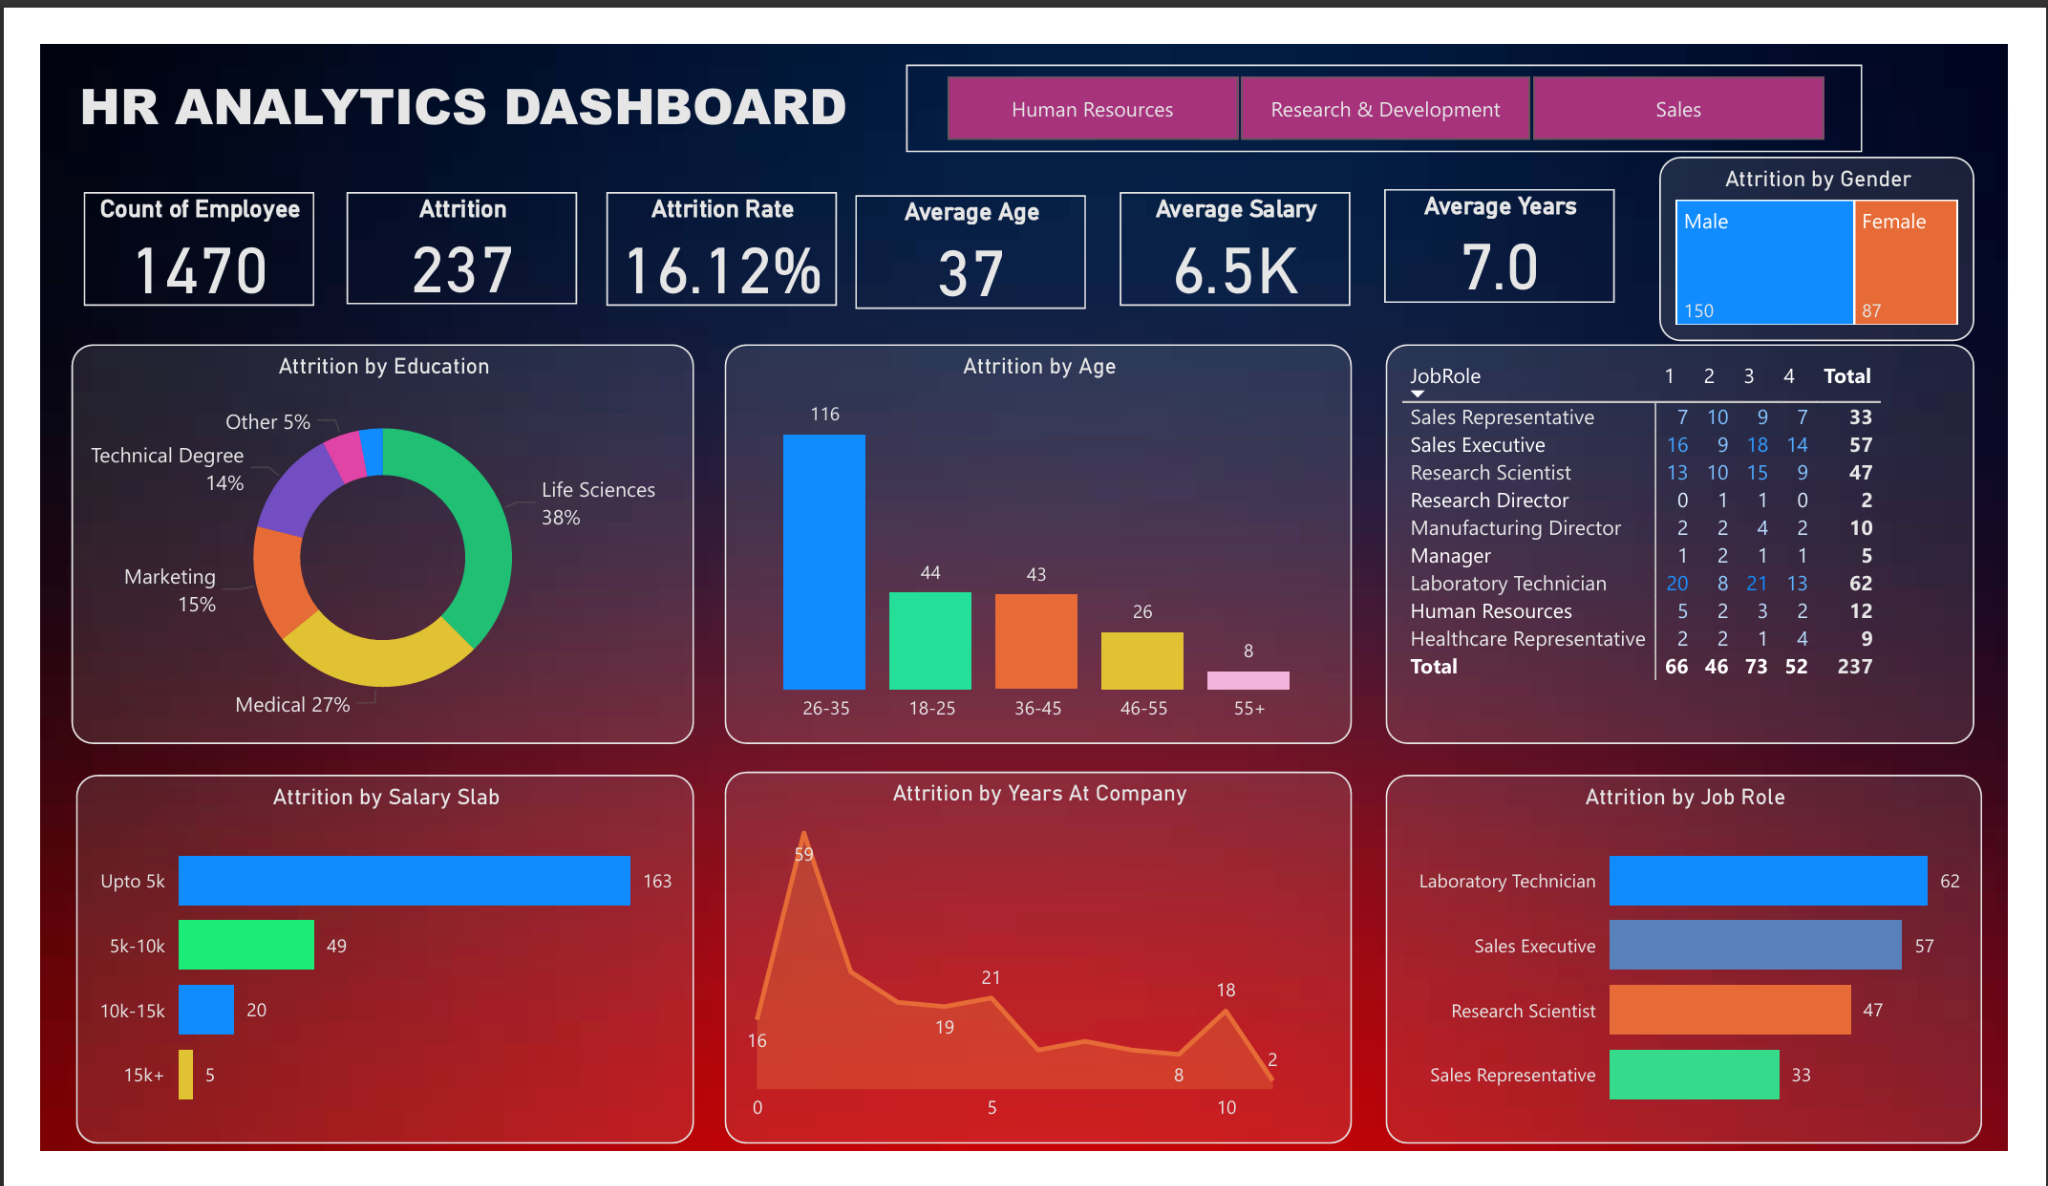

This screenshot's page, from the dashboard's own definition file:
{"tool":"powerbi","page":{"name":"Page 1","canvas":[1280,720],"ordinal":0},"visuals":[{"type":"card","title":"Count of Employee","fields":{"Values":["CountNonNull(HR_Analytics.EmpID)"]},"box":[28,96,150,74],"z":0},{"type":"card","title":"Attrition","fields":{"Values":["Sum(HR_Analytics.AttritionCount)"]},"box":[194,98,150,74],"z":1000},{"type":"card","title":"Attrition Rate","fields":{"Values":["HR_Analytics.AttritionRate"]},"box":[368,96,150,74],"z":2000},{"type":"card","title":"Average Age","fields":{"Values":["Avg(HR_Analytics.Age)"]},"box":[530,98,150,74],"z":3000},{"type":"card","title":"Average Years","fields":{"Values":["Avg(HR_Analytics.YearsAtCompany)"]},"box":[874,94,150,74],"z":4000},{"type":"card","title":"Average Salary","fields":{"Values":["Avg(HR_Analytics.MonthlyIncome)"]},"box":[702,96,150,74],"z":5000},{"type":"donutChart","title":"Attrition by Education","fields":{"Category":["HR_Analytics.EducationField"],"Y":["Sum(HR_Analytics.AttritionCount)"]},"box":[20,195,385,260],"z":6000},{"type":"columnChart","title":"Attrition by Age","fields":{"Category":["HR_Analytics.AgeGroup"],"Y":["Sum(HR_Analytics.AttritionCount)"]},"box":[430,195,390,260],"z":7000},{"type":"pivotTable","fields":{"Rows":["HR_Analytics.JobRole"],"Columns":["HR_Analytics.JobSatisfaction"],"Values":["Sum(HR_Analytics.AttritionCount)"]},"box":[852.5,195,367.5,260],"z":8000},{"type":"barChart","title":"Attrition by Salary Slab","fields":{"Category":["HR_Analytics.SalarySlab"],"Y":["Sum(HR_Analytics.AttritionCount)"]},"box":[22.5,475,382.5,240],"z":9000},{"type":"barChart","title":"Attrition by Job Role","fields":{"Category":["HR_Analytics.JobRole"],"Y":["Sum(HR_Analytics.AttritionCount)"]},"box":[852.5,477.5,367.5,240],"z":10000},{"type":"areaChart","title":"Attrition by Years At Company","fields":{"Category":["HR_Analytics.YearsAtCompany"],"Y":["Sum(HR_Analytics.AttritionCount)"]},"box":[430,475,390,242.5],"z":11000},{"type":"treemap","title":"Attrition by Gender","fields":{"Group":["HR_Analytics.Gender"],"Values":["Sum(HR_Analytics.AttritionCount)"]},"box":[1052.5,75,205,120],"z":12000},{"type":"slicer","fields":{"Values":["HR_Analytics.Department"]},"box":[562.5,12.5,622.5,57.5],"z":12001},{"type":"textbox","box":[20,12,530,58],"z":12002}]}

Visuals, with their boxes in screenshot pixels (x1, y1, x2, y2), scaled from the page's 1280x720 canvas onto the 2048x1186 screenshot:
"Count of Employee" card: [45, 158, 285, 280]
"Attrition" card: [310, 161, 550, 283]
"Attrition Rate" card: [589, 158, 829, 280]
"Average Age" card: [848, 161, 1088, 283]
"Average Years" card: [1398, 155, 1638, 277]
"Average Salary" card: [1123, 158, 1363, 280]
"Attrition by Education" donutChart: [32, 321, 648, 749]
"Attrition by Age" columnChart: [688, 321, 1312, 749]
pivotTable - HR_Analytics.JobRole x HR_Analytics.JobSatisfaction: [1364, 321, 1952, 749]
"Attrition by Salary Slab" barChart: [36, 782, 648, 1178]
"Attrition by Job Role" barChart: [1364, 787, 1952, 1182]
"Attrition by Years At Company" areaChart: [688, 782, 1312, 1182]
"Attrition by Gender" treemap: [1684, 124, 2012, 321]
slicer - HR_Analytics.Department: [900, 21, 1896, 115]
textbox: [32, 20, 880, 115]
